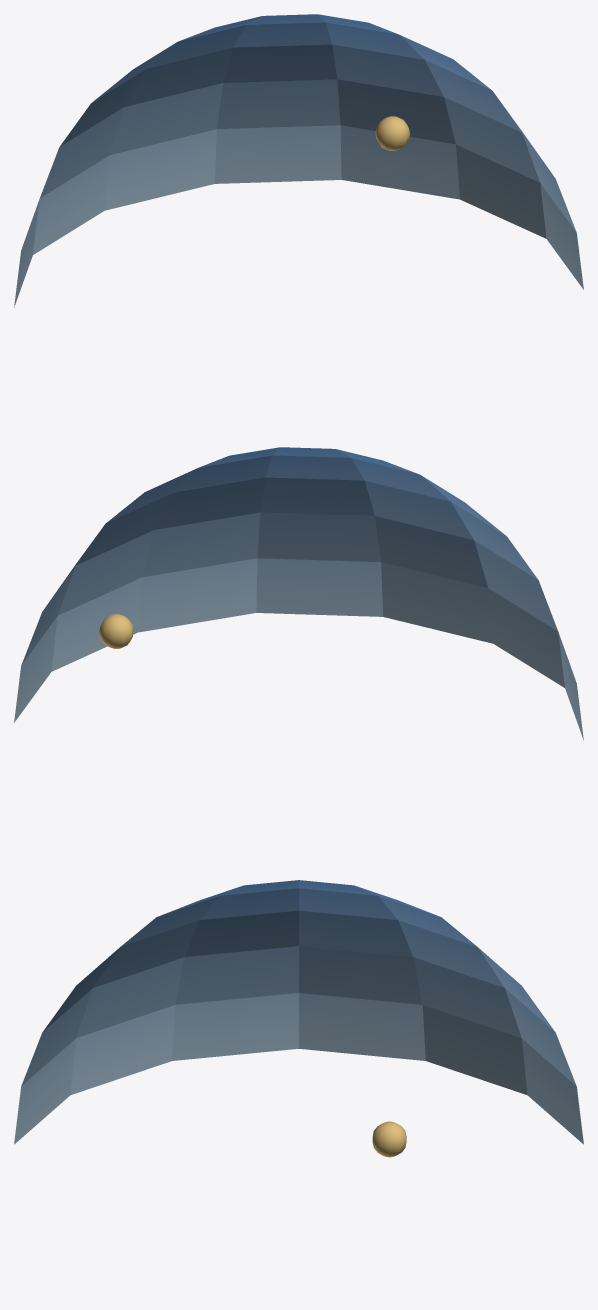
The model's file is sky-clear-day-dome.glb.
3 views of the same model, one above another, from view 1: azimuth 30°, elevation 25°; view 2: azimuth 150°, elevation 25°; view 3: azimuth 270°, elevation 25° (orthographic). The views are drawn at different scales.
Visible parts, largest first — view 1: sky_clear_day_dome; view 2: sky_clear_day_dome; view 3: sky_clear_day_dome.
Part boxes in pixels (x1,y1,x2,y2): sky_clear_day_dome: [14, 14, 583, 307]; sky_clear_day_dome: [14, 447, 583, 740]; sky_clear_day_dome: [14, 880, 583, 1157].
Size of the model in its own units: 5.2 by 2.6 by 5.07.
